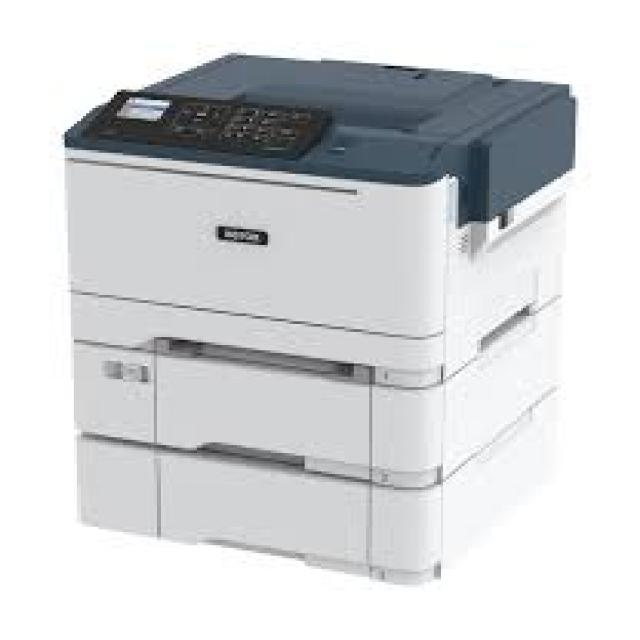printer: (55, 27, 595, 601)
